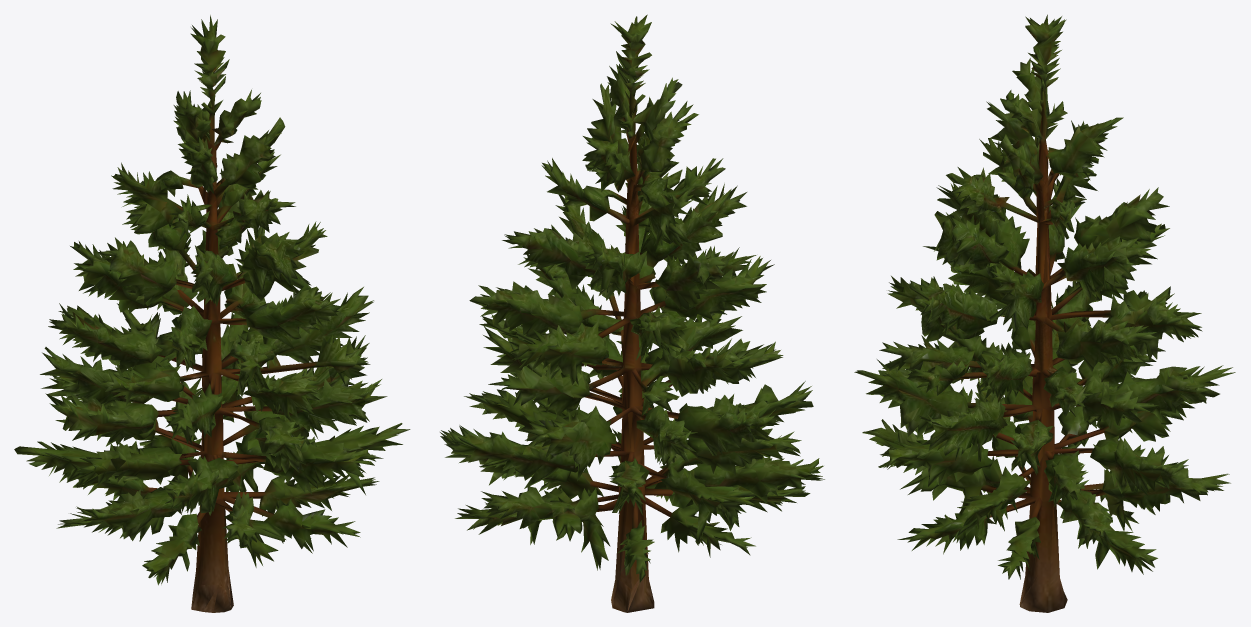
The model's file is pine.glb.
3 renders of one model, left to right at view 1: azimuth 30°, elevation 25°; view 2: azimuth 150°, elevation 25°; view 3: azimuth 270°, elevation 25°, orthographic.
Parts seen in each view (by area): view 1: tripo_node_3ff5abdd; view 2: tripo_node_3ff5abdd; view 3: tripo_node_3ff5abdd.
Part boxes in pixels (left/top/right/bottom): tripo_node_3ff5abdd: left=14, top=15, right=410, bottom=612; tripo_node_3ff5abdd: left=440, top=14, right=824, bottom=612; tripo_node_3ff5abdd: left=854, top=14, right=1235, bottom=612.
Bounding box in the file's own units: 0.5854 × 1 × 0.5897.
1 material, 1 textured.
